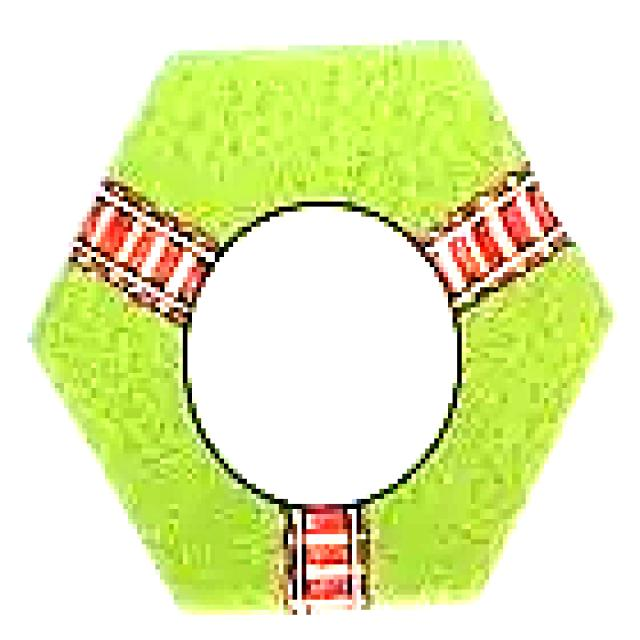11_1: (29, 45, 612, 602)
